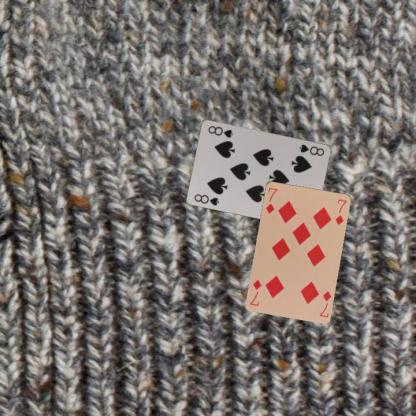7d: (263, 185, 278, 215), (317, 288, 332, 318)
8s: (192, 191, 221, 207), (297, 142, 325, 157)
